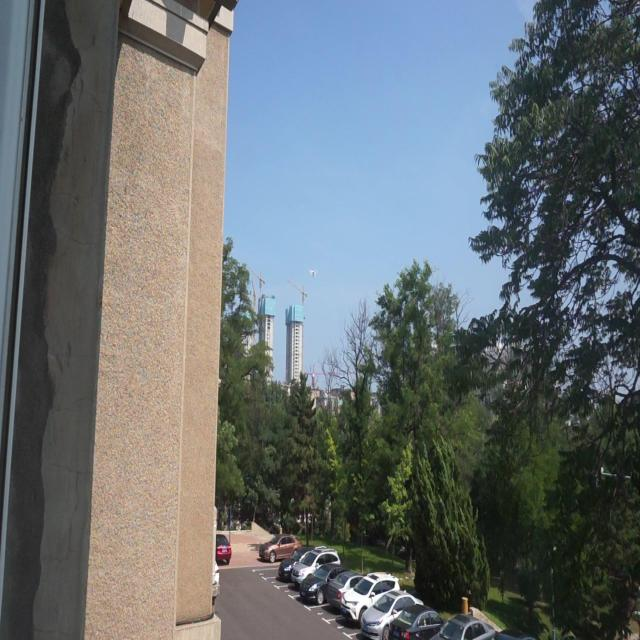drone: (308, 264, 320, 280)
